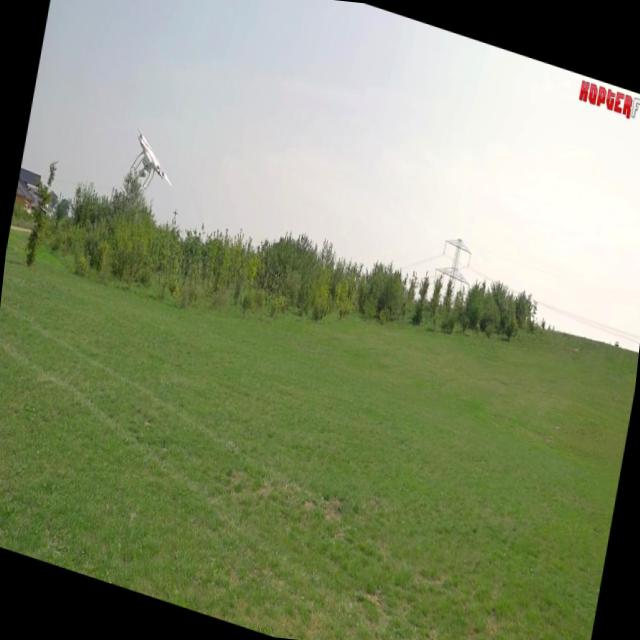drone: (123, 127, 175, 205)
